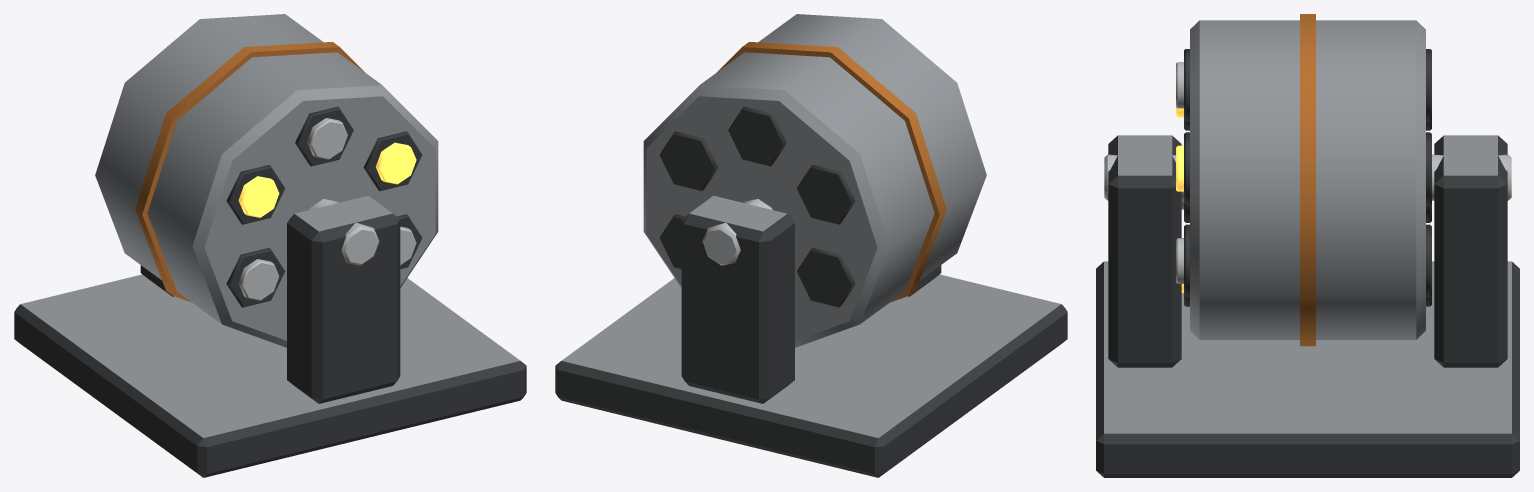
File: R4X_ReloadBooster_LOD1.fbx
3 renders of one model, left to right at view 1: azimuth 30°, elevation 25°; view 2: azimuth 150°, elevation 25°; view 3: azimuth 270°, elevation 25°, orthographic. The views are drawn at different scales.
Visible parts, largest first — view 1: R4X_ReloadBooster_LOD1; view 2: R4X_ReloadBooster_LOD1; view 3: R4X_ReloadBooster_LOD1.
Part boxes in pixels (left/top/right/bottom): R4X_ReloadBooster_LOD1: left=14, top=14, right=526, bottom=477; R4X_ReloadBooster_LOD1: left=555, top=14, right=1067, bottom=477; R4X_ReloadBooster_LOD1: left=1096, top=14, right=1519, bottom=477.
Bounding box in the file's own units: 0.52 × 0.4948 × 0.52.
